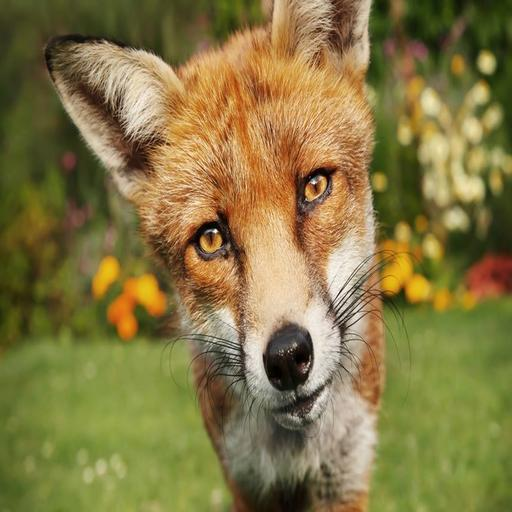Fox: (42, 0, 414, 512)
